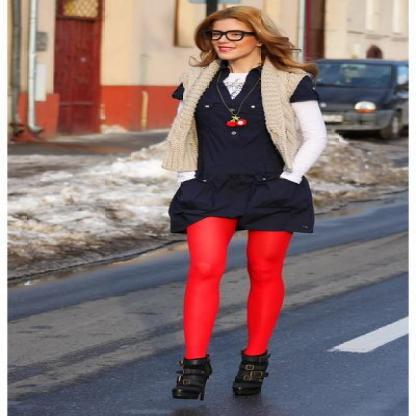dress: (162, 70, 329, 234)
jacket: (153, 58, 311, 172)
shirt: (229, 85, 341, 183)
shoe: (171, 349, 270, 404)
